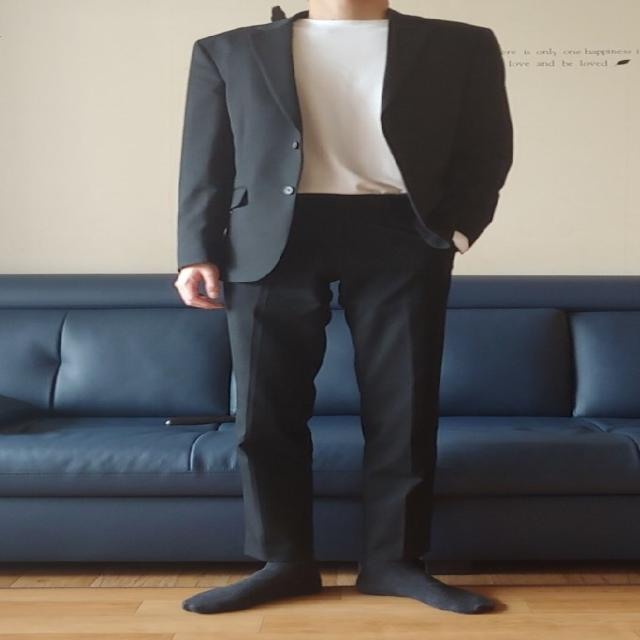blazer: (173, 8, 514, 281)
slacks: (215, 198, 455, 597)
